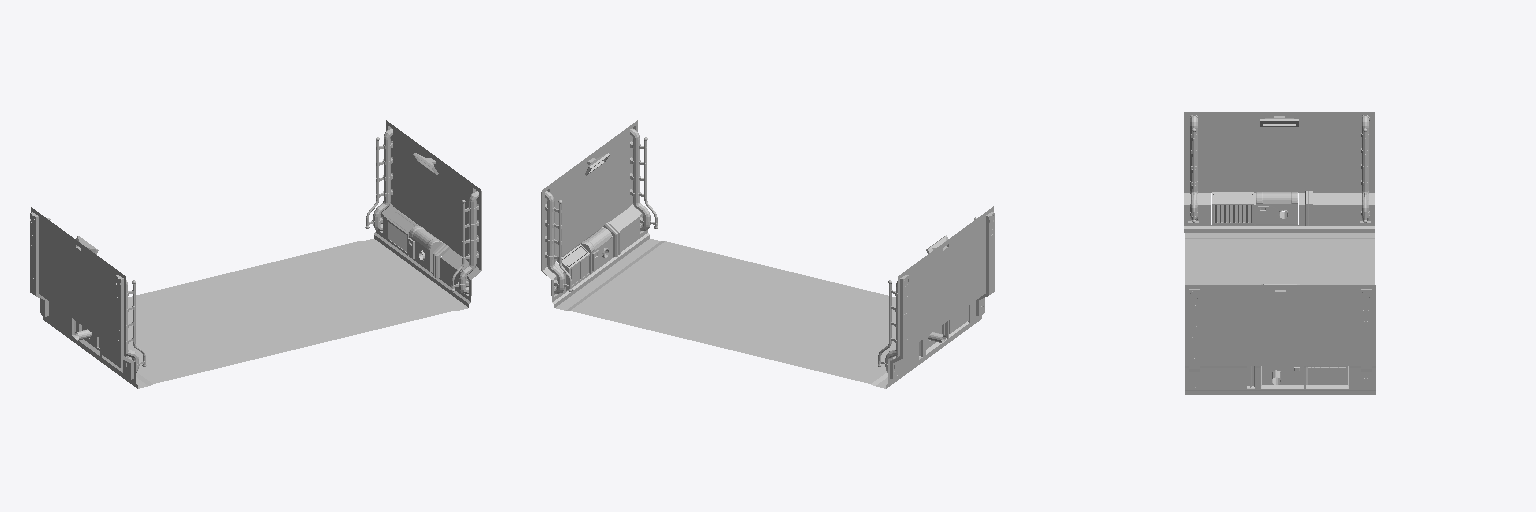
The picture shows the model from 3 angles: view 1: azimuth 30°, elevation 25°; view 2: azimuth 150°, elevation 25°; view 3: azimuth 270°, elevation 25°; orthographic projection.
Visible parts, largest first — view 1: Segment_3 Components Full_Templates Templates; view 2: Segment_3 Components Full_Templates Templates; view 3: Segment_3 Components Full_Templates Templates.
Boxes of the visible parts, x1=… form: Segment_3 Components Full_Templates Templates: x1=30, y1=120, x2=481, y2=388; Segment_3 Components Full_Templates Templates: x1=541, y1=120, x2=994, y2=388; Segment_3 Components Full_Templates Templates: x1=1184, y1=112, x2=1375, y2=394.
Size of the model in its own units: 39.31 by 12 by 18.1.